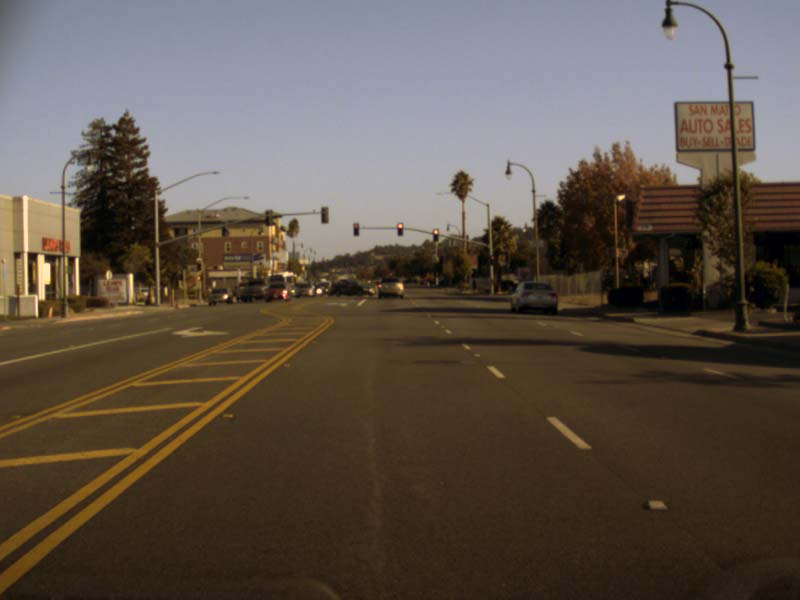Red: (353, 222, 359, 236), (195, 260, 201, 271), (397, 223, 402, 234), (433, 229, 437, 241), (490, 255, 493, 264)
